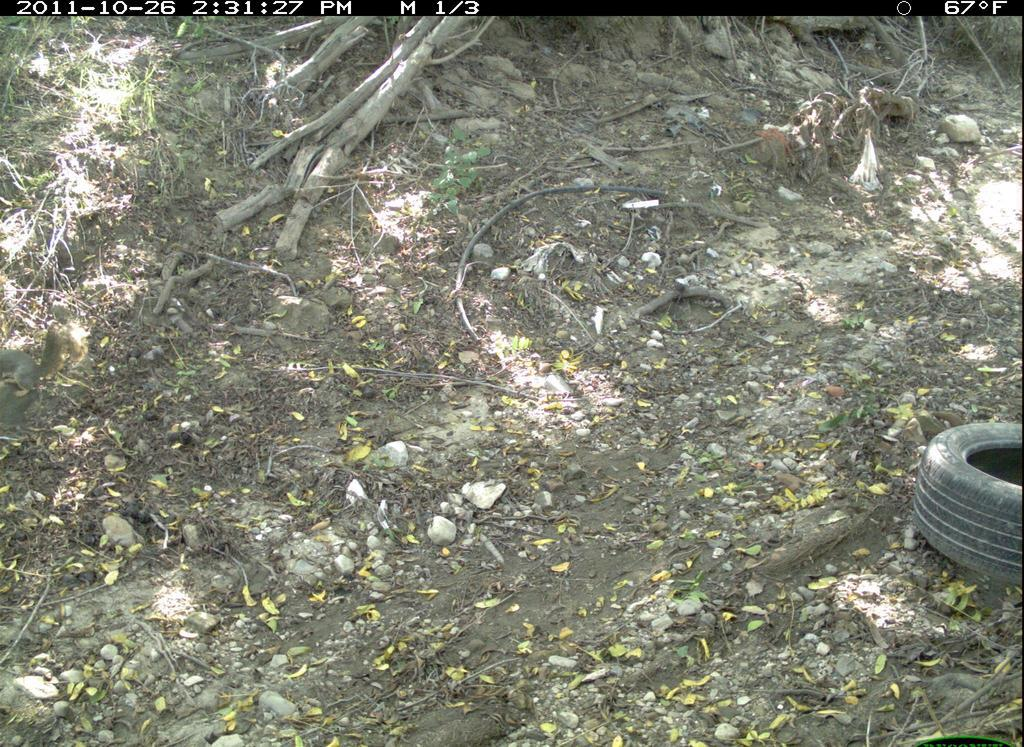squirrel: (2, 321, 75, 409)
